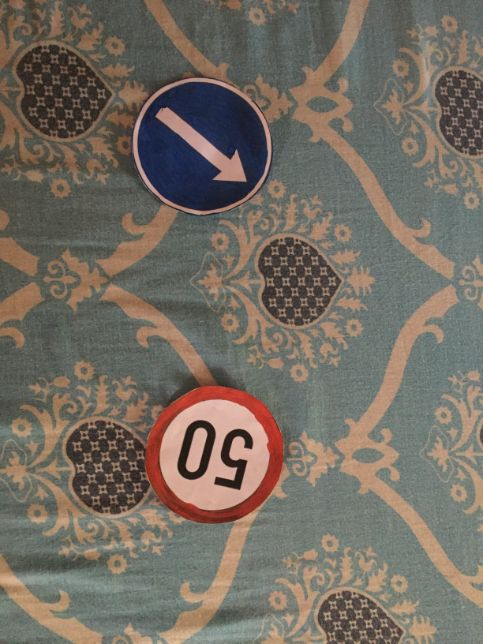go-stright: (131, 77, 265, 211)
speed-50: (143, 382, 279, 518)
